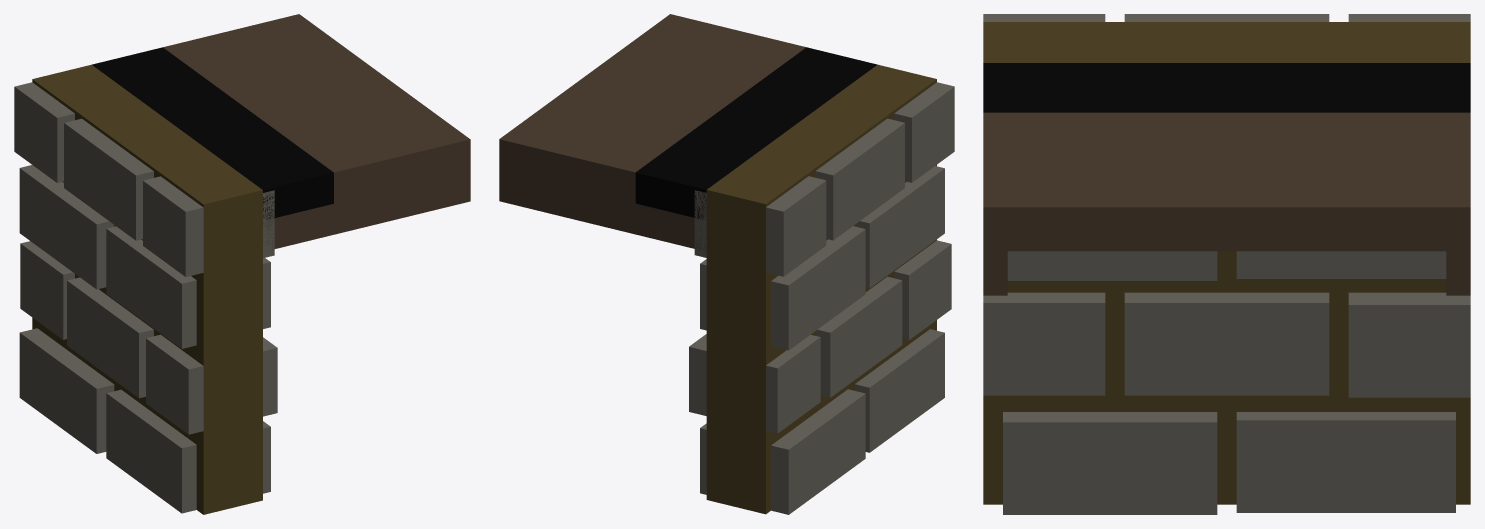
Rendered from A_BrickWallFloor02.fbx.
3 renders of one model, left to right at view 1: azimuth 30°, elevation 25°; view 2: azimuth 150°, elevation 25°; view 3: azimuth 270°, elevation 25°, orthographic. The views are drawn at different scales.
Visible parts, largest first — view 1: A_BrickWallFloor02; view 2: A_BrickWallFloor02; view 3: A_BrickWallFloor02.
Part boxes in pixels (x1,y1,x2,y2): A_BrickWallFloor02: (14, 14, 470, 514); A_BrickWallFloor02: (499, 14, 954, 514); A_BrickWallFloor02: (983, 14, 1470, 514).
Bounding box in the file's own units: 96 × 100 × 100.
